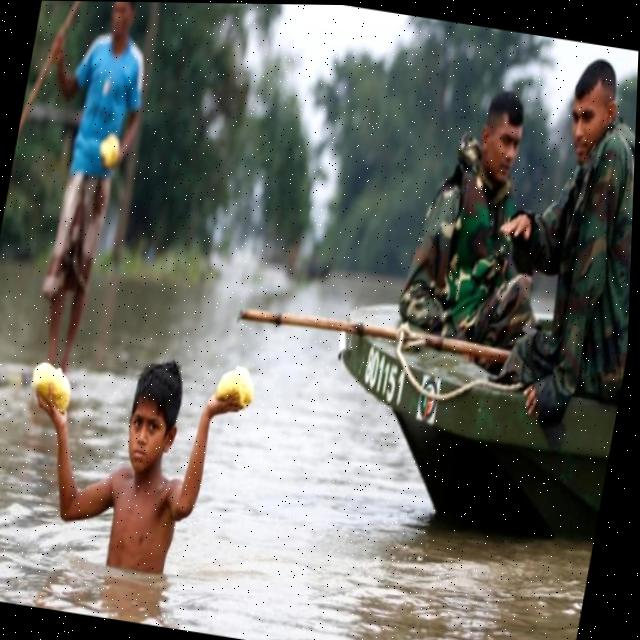civilian: (0, 332, 261, 599), (0, 0, 187, 366), (484, 49, 638, 427), (393, 79, 566, 357)
